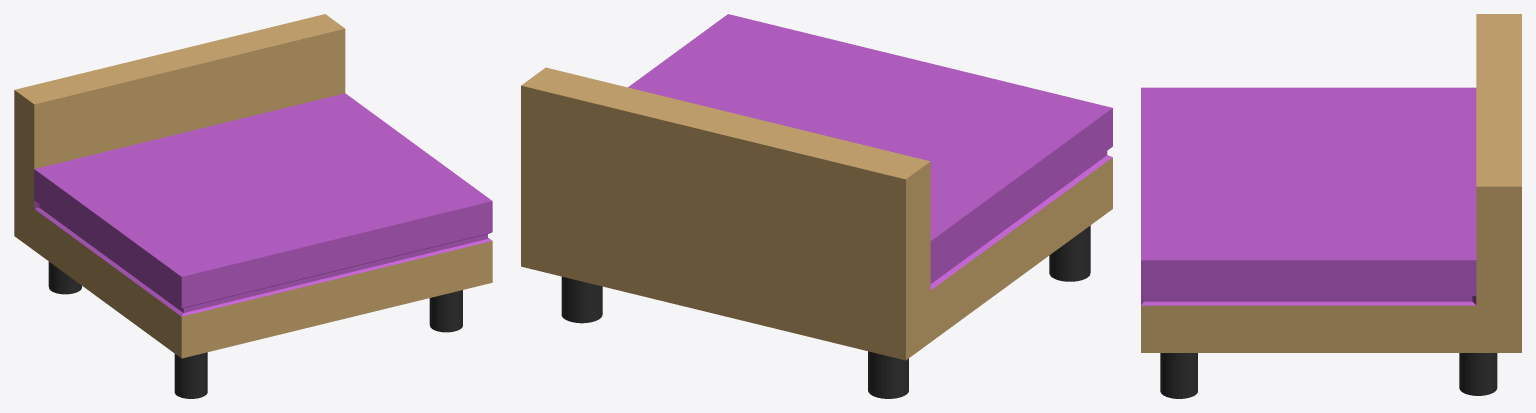
File: bed.fbx
3 views of the same model, side by side, from view 1: azimuth 30°, elevation 25°; view 2: azimuth 150°, elevation 25°; view 3: azimuth 270°, elevation 25° (orthographic). The views are drawn at different scales.
Parts seen in each view (by area): view 1: Cube.001, Cube, Cube.003; view 2: Cube, Cube.001, Cube.003; view 3: Cube.001, Cube, Cube.003.
Boxes of the visible parts, x1,y1,x2,y2 form: Cube.001: (34, 93, 492, 316); Cube: (14, 14, 492, 358); Cube.003: (48, 261, 462, 398); Cube: (521, 67, 1112, 360); Cube.001: (628, 14, 1112, 290); Cube.003: (561, 225, 1090, 398); Cube.001: (1141, 87, 1476, 305); Cube: (1141, 14, 1521, 352); Cube.003: (1160, 353, 1497, 398).
Size of the model in its own units: 597 by 357 by 557.
